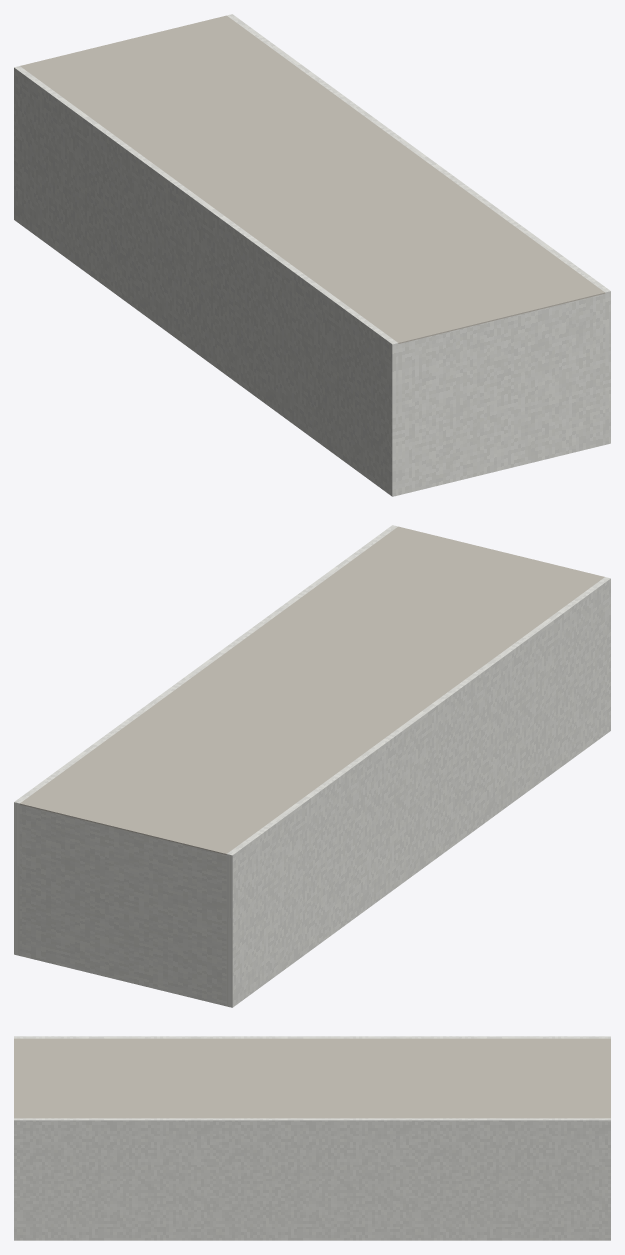
File: shelving_600.obj
The picture shows the model from 3 angles, top to bottom: view 1: azimuth 30°, elevation 25°; view 2: azimuth 150°, elevation 25°; view 3: azimuth 270°, elevation 25°; orthographic projection. The views are drawn at different scales.
Parts seen in each view (by area): view 1: zadnyaya_stenka, bokovina_levaya, krysha, bokovina_pravaya; view 2: zadnyaya_stenka, bokovina_levaya, dno, bokovina_pravaya; view 3: bokovina_pravaya, zadnyaya_stenka, bokovina_levaya.
Boxes of the visible parts, <box> form: zadnyaya_stenka: <box>20,15,605,343</box>; bokovina_levaya: <box>14,66,398,496</box>; krysha: <box>398,294,605,495</box>; bokovina_pravaya: <box>227,14,610,444</box>; zadnyaya_stenka: <box>19,526,604,854</box>; bokovina_levaya: <box>226,577,610,1007</box>; dno: <box>19,805,226,1006</box>; bokovina_pravaya: <box>14,525,397,955</box>; bokovina_pravaya: <box>14,1118,610,1240</box>; zadnyaya_stenka: <box>14,1038,610,1118</box>; bokovina_levaya: <box>14,1036,610,1038</box>.
Bounding box in the file's own units: 600 × 400 × 1800.
